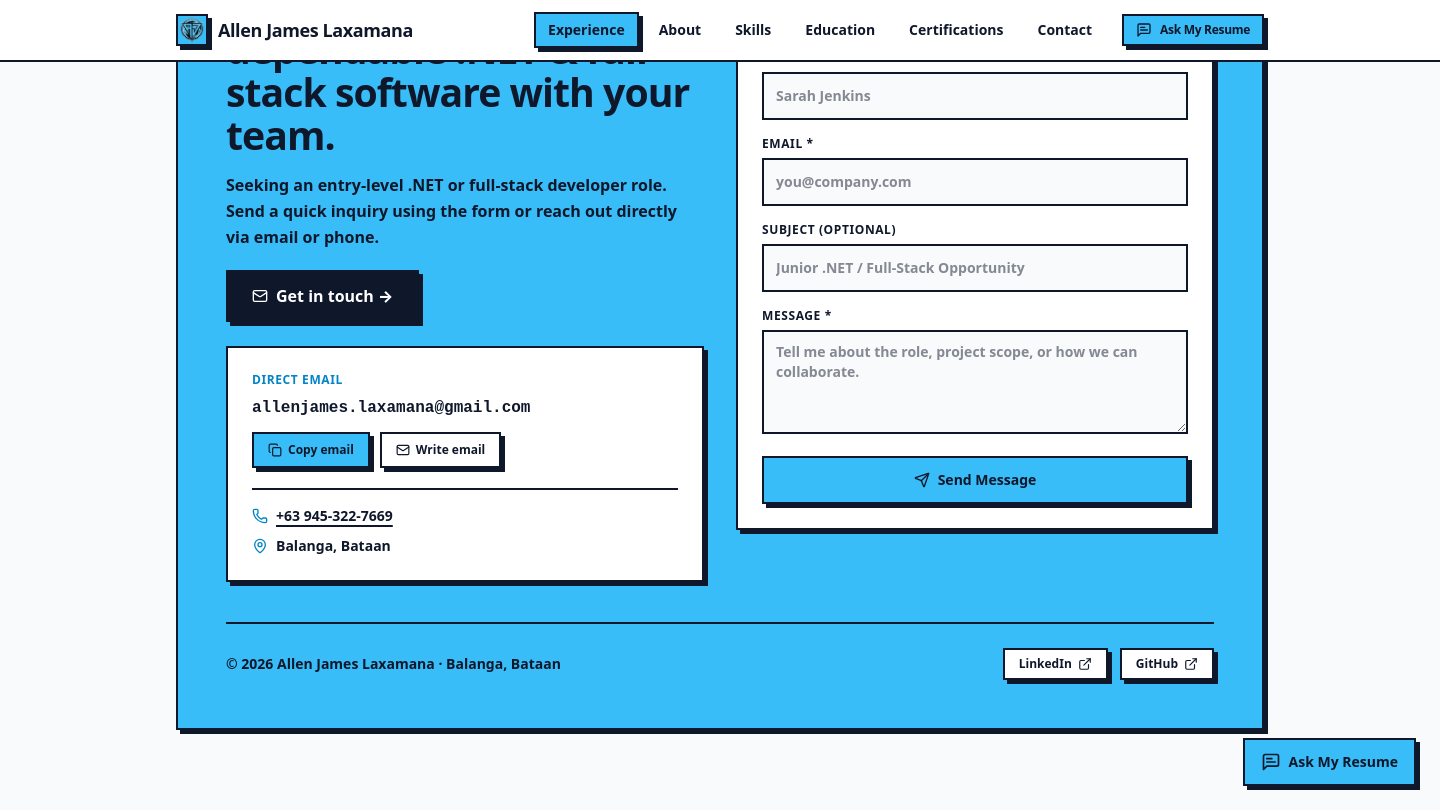
User Story 4: Contact Section & Ask My Resume Hybrid RAG › shows selection fallback hint when clipboard access is denied
(page scrolled)
Click the button "Copy email" at (311, 450), box x1=252 y1=432 x2=370 y2=468
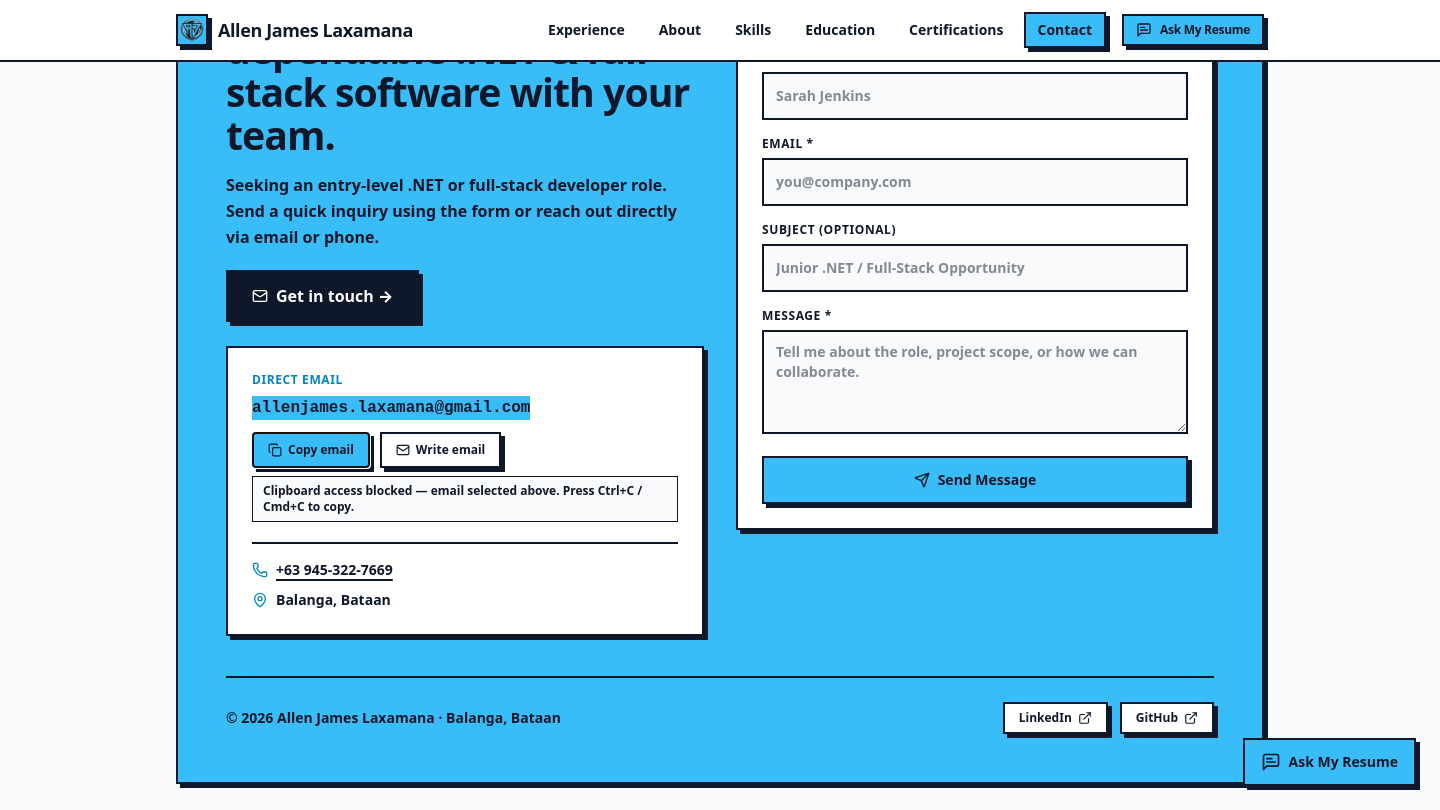
Result: the message "Clipboard access blocked — email selected above. Press Ctrl+C / Cmd+C to copy." is shown at x1=252 y1=476 x2=678 y2=522
